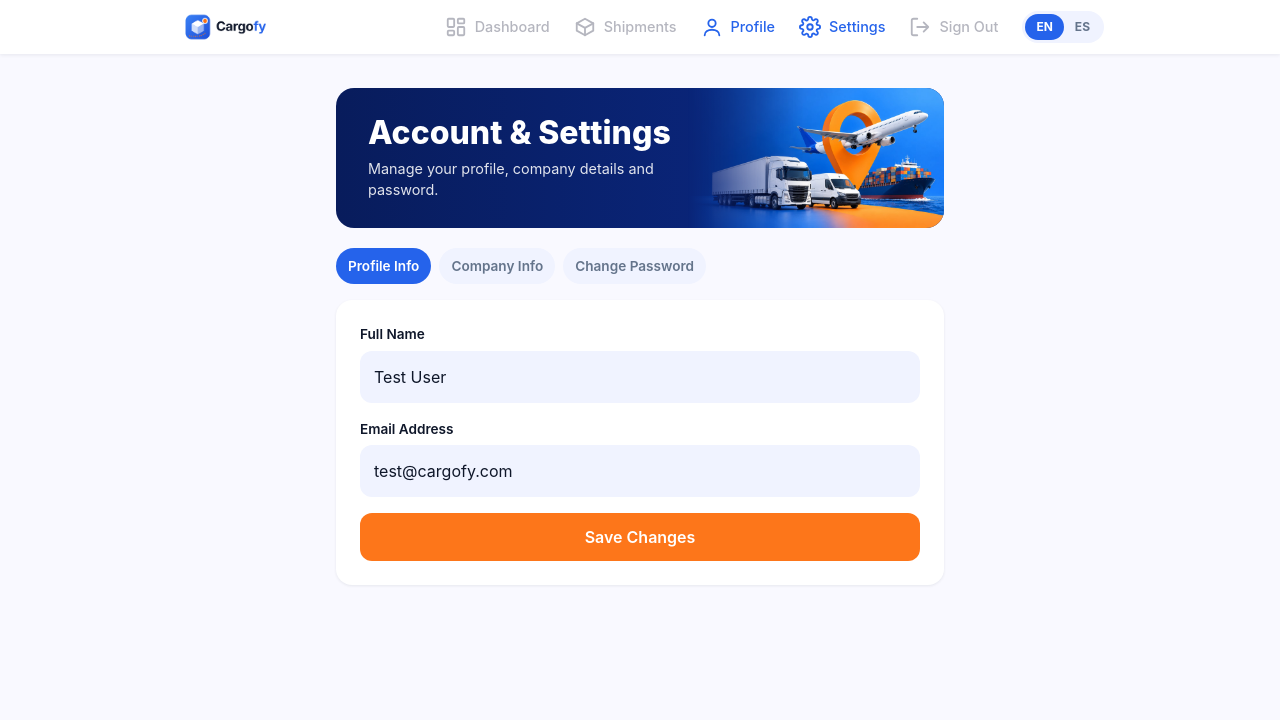
Test: AccountView › saves the profile and shows a confirmation
The image size is (1280, 720).
Step 1. Replace the text in the field with id "name" with "New Name" → [640, 377], box [360, 351, 920, 403]
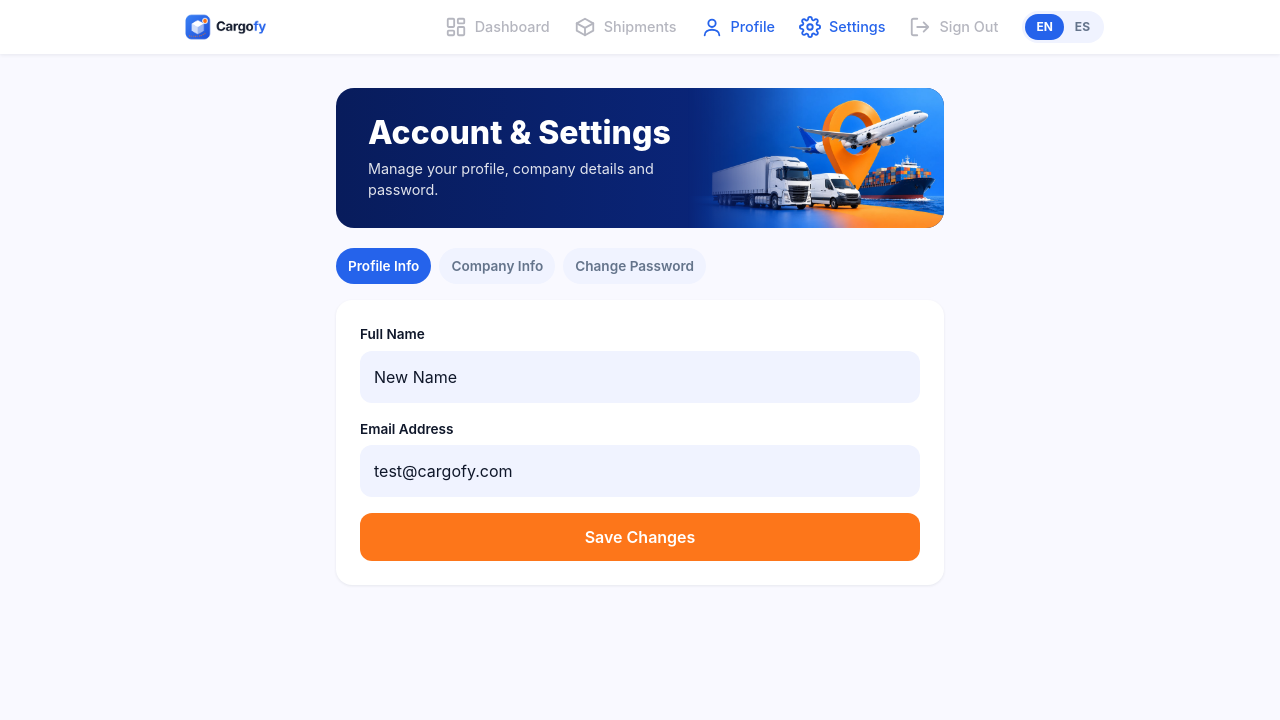
Step 2. Submit the form, box [336, 300, 944, 585]
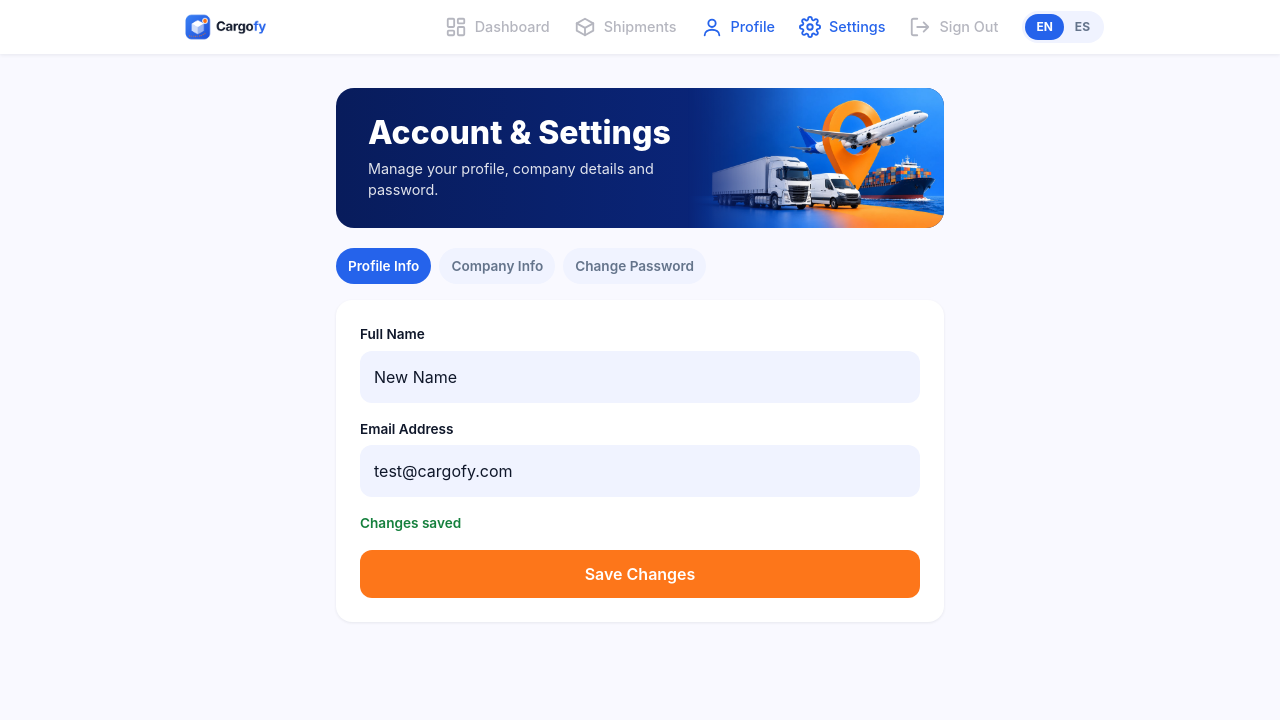
Expected: the text "Changes saved" is shown, [360, 515, 461, 531]
